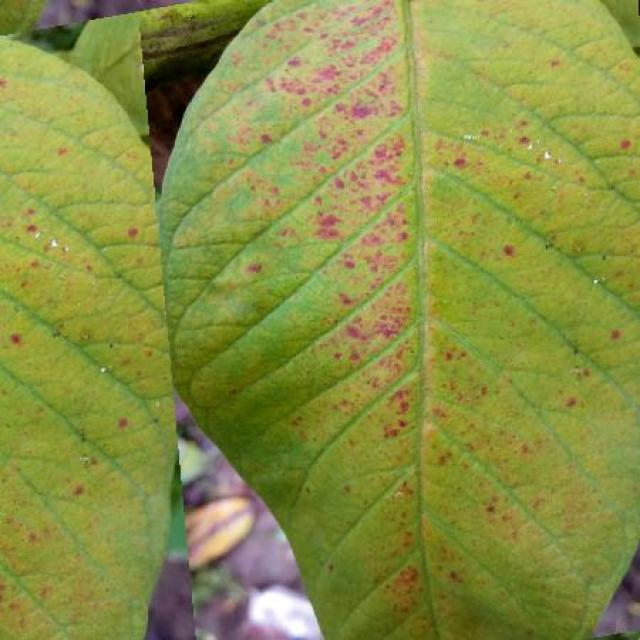Red Rust: (160, 0, 640, 640), (0, 40, 175, 639)
